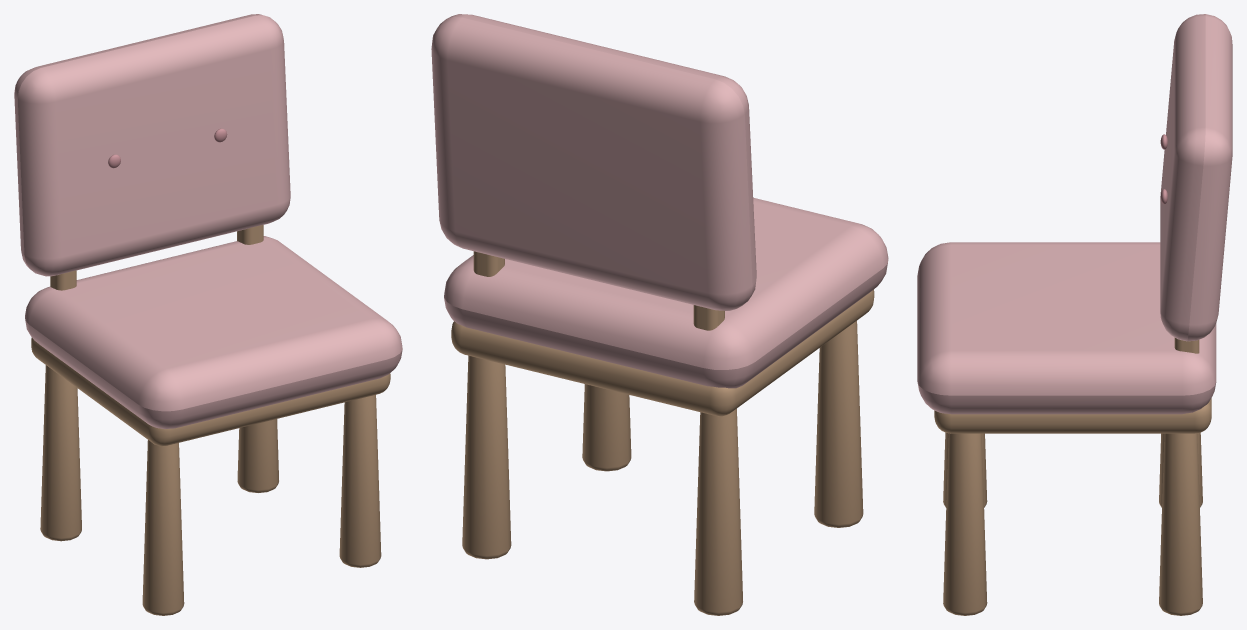
File: chair.glb
The picture shows the model from 3 angles, left to right: view 1: azimuth 30°, elevation 25°; view 2: azimuth 150°, elevation 25°; view 3: azimuth 270°, elevation 25°; orthographic projection. The views are drawn at different scales.
Visible parts, largest first — view 1: Chair upholstered back, Chair upholstered seat, Chair oak leg, Chair oak leg.002, Chair oak leg.001, Wood seat support, Chair oak leg.003; view 2: Chair upholstered back, Chair upholstered seat, Wood seat support, Chair oak leg.001, Chair oak leg.003, Chair oak leg, Chair oak leg.002, Oak back support, Oak back support.001; view 3: Chair upholstered seat, Chair upholstered back, Chair oak leg.002, Chair oak leg.003, Wood seat support, Chair oak leg.001, Chair oak leg.
Boxes of the visible parts, x1,y1,x2,y2 form: Chair upholstered back: [14, 14, 290, 276]; Chair upholstered seat: [25, 236, 402, 429]; Chair oak leg: [142, 440, 184, 615]; Chair oak leg.002: [339, 395, 381, 567]; Chair oak leg.001: [40, 365, 81, 541]; Wood seat support: [31, 337, 390, 446]; Chair oak leg.003: [237, 419, 278, 492]; Chair upholstered back: [431, 14, 756, 310]; Chair upholstered seat: [444, 197, 888, 388]; Wood seat support: [451, 289, 874, 416]; Chair oak leg.001: [694, 408, 742, 615]; Chair oak leg.003: [462, 355, 511, 559]; Chair oak leg: [814, 321, 863, 527]; Chair oak leg.002: [582, 384, 631, 471]; Oak back support: [693, 305, 724, 330]; Oak back support.001: [473, 251, 504, 276]; Chair upholstered seat: [917, 242, 1216, 414]; Chair upholstered back: [1160, 14, 1232, 341]; Chair oak leg.002: [943, 433, 987, 615]; Chair oak leg.003: [1159, 433, 1202, 615]; Wood seat support: [934, 398, 1211, 433]; Chair oak leg.001: [1159, 433, 1202, 507]; Chair oak leg: [943, 432, 987, 507].
Bounding box in the file's own units: 1.04 × 1.74 × 1.02.
